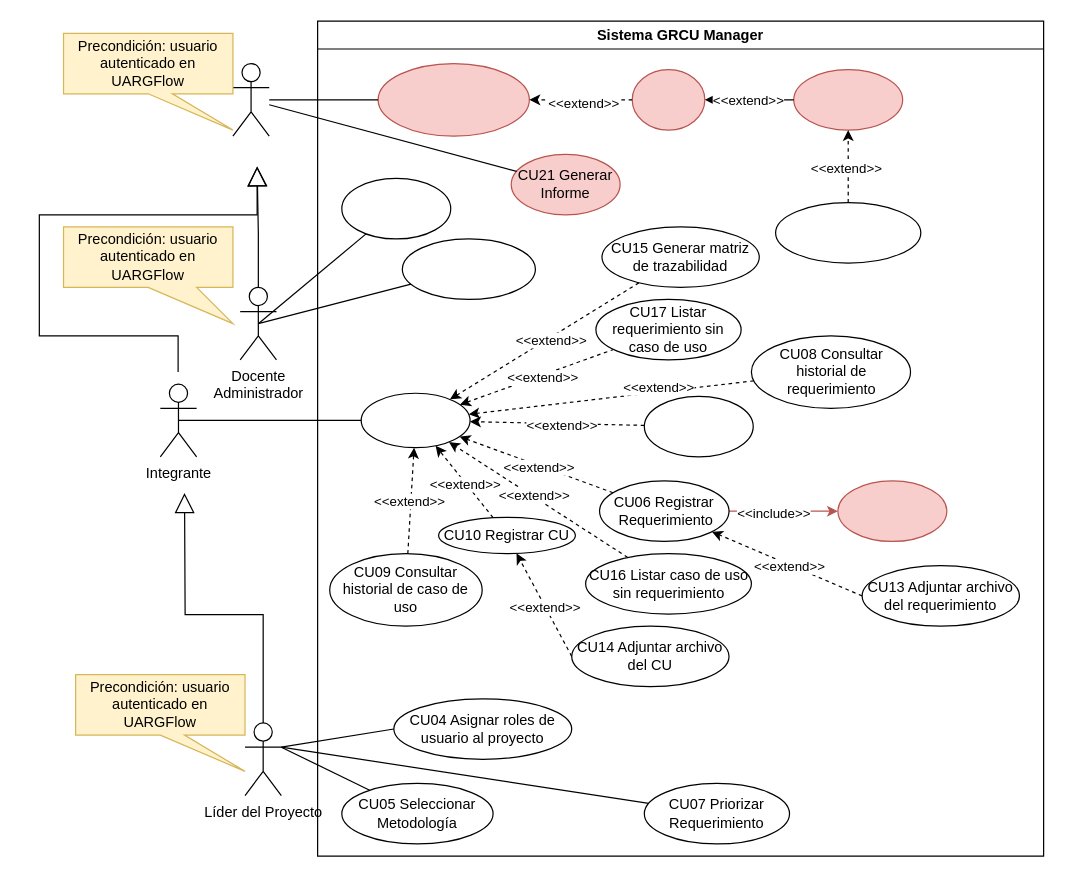
Some shapes in this 1065 by 877 pixel diagram are drawn without their labels. The shapes that lost their labels are listed below. From the top down, each one's centre as x and y in pixels, then its label:
At (250,99): "Cliente".
At (453,99): "CU22 Visualizar trazabilidad interactiva".
At (668,99): "CU20 Validar".
At (848,99): "CU18 - 19 Comentar".
At (396,208): "CU03 Crear Proyecto".
At (847,232): "Adjuntar archivo".
At (468,268): "CU02 Gestionar Usuarios".
At (415,420): "CU01 Autenticarse".
At (698,426): "CU11 Definir dependencias".
At (892,510): "CU12 Agrupar requerimientos".
